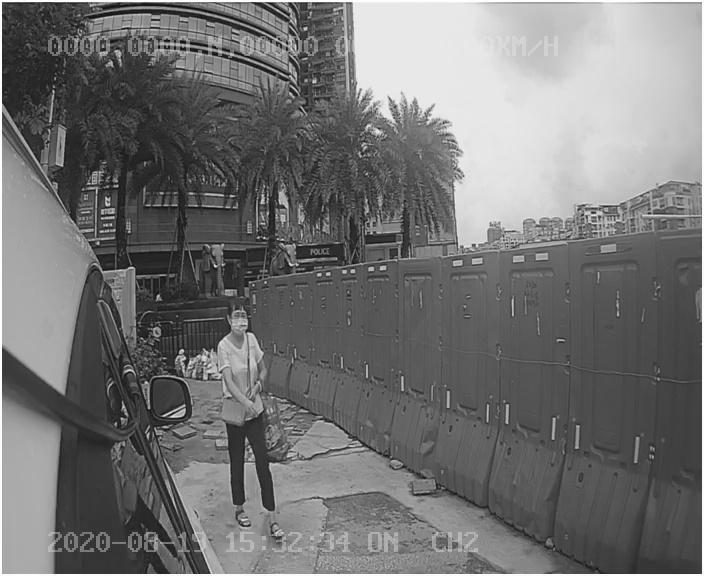person: (202, 297, 302, 535)
